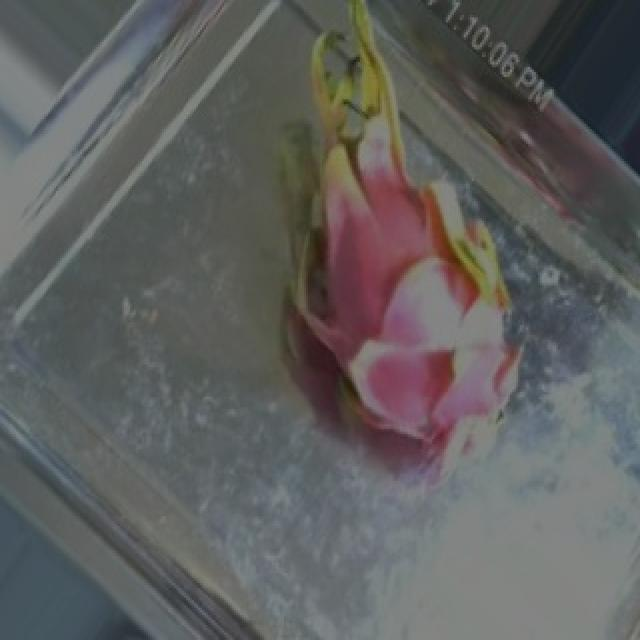fruit: (172, 2, 614, 472)
